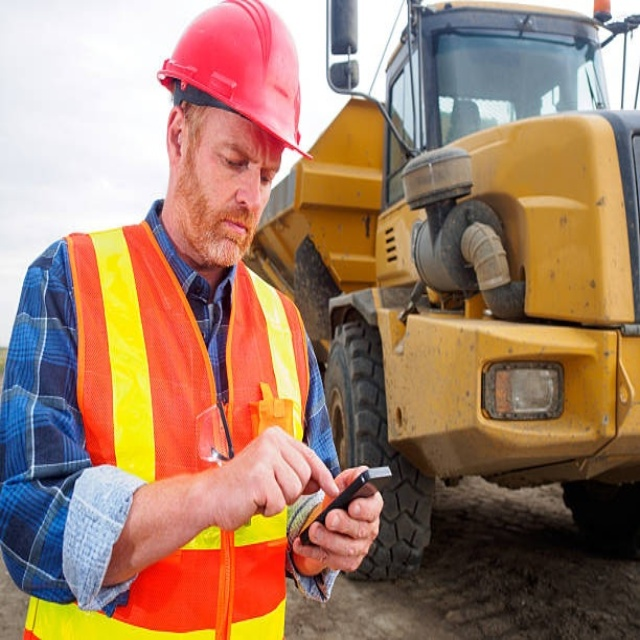Sin_gafas: (201, 132, 280, 192)
Sin_guantes: (208, 416, 343, 537), (291, 464, 383, 577)
Sin_mascara: (207, 208, 255, 259)
